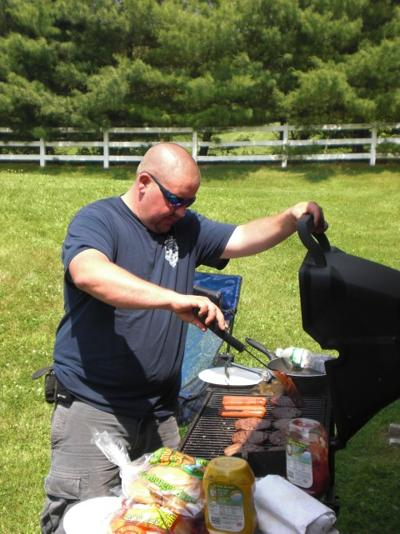person: (43, 143, 325, 534)
